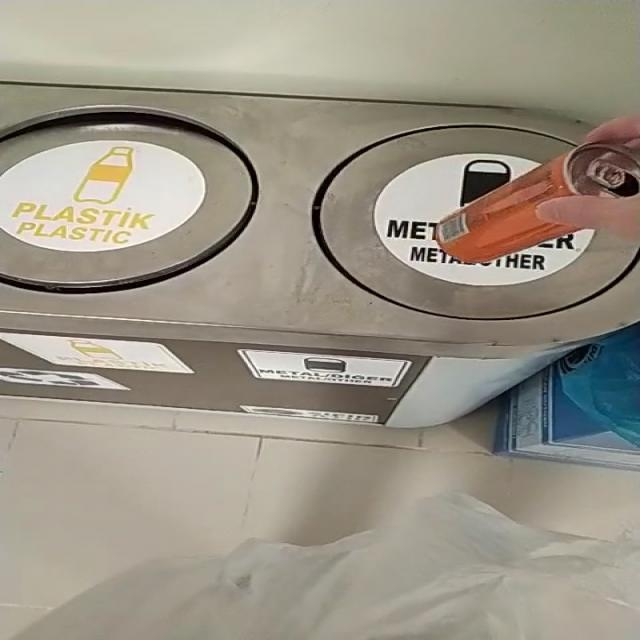Bin: (0, 84, 639, 428)
Metal: (436, 143, 640, 264)
